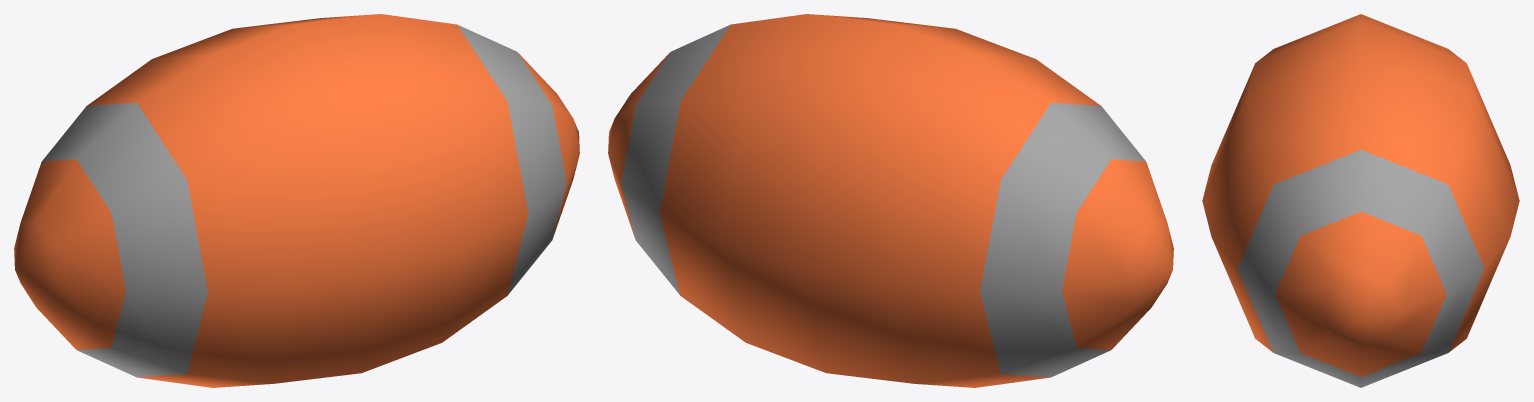
The model's file is americanFootball.fbx.
The picture shows the model from 3 angles, left to right: view 1: azimuth 30°, elevation 25°; view 2: azimuth 150°, elevation 25°; view 3: azimuth 270°, elevation 25°; orthographic projection. The views are drawn at different scales.
Visible parts, largest first — view 1: americanFootball; view 2: americanFootball; view 3: americanFootball.
Part boxes in pixels (x1=…): americanFootball: x1=14, y1=14, x2=579, y2=387; americanFootball: x1=608, y1=14, x2=1173, y2=387; americanFootball: x1=1202, y1=14, x2=1519, y2=387.
Size of the model in its own units: 356 by 213 by 200.
